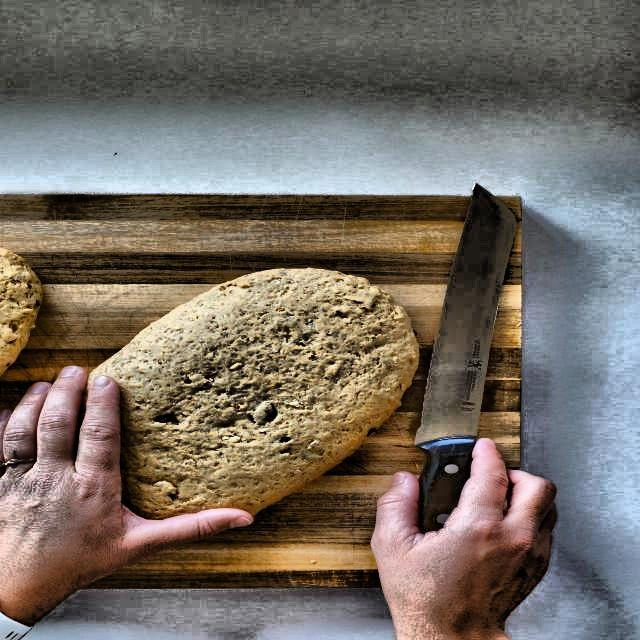knife: (414, 186, 512, 562)
